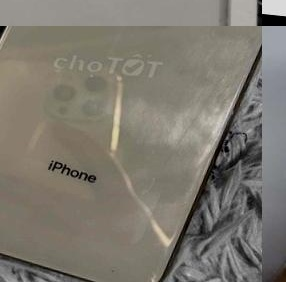scratch: (95, 255, 131, 282)
